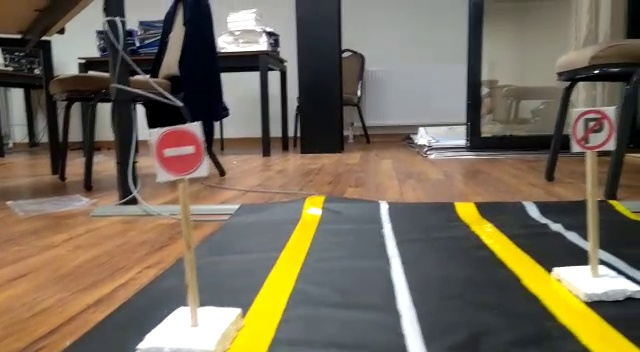girisi_olmayan_yol: (154, 122, 205, 178)
park_yapilmaz: (570, 107, 618, 151)
